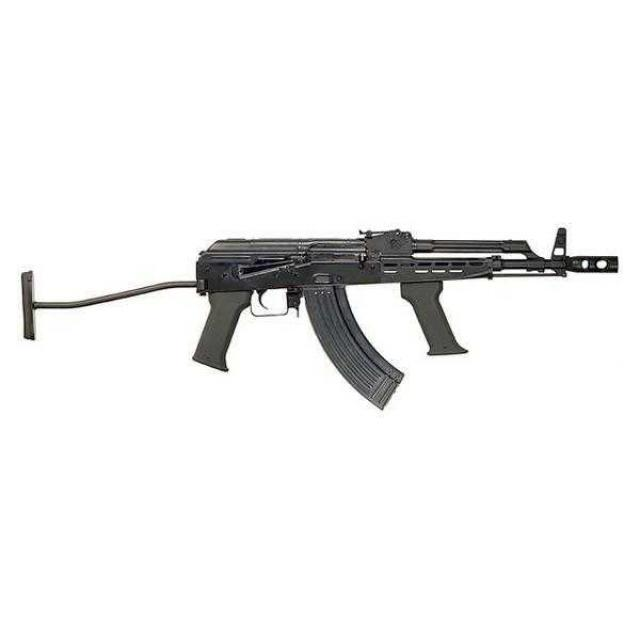weapon: (24, 174, 626, 420)
